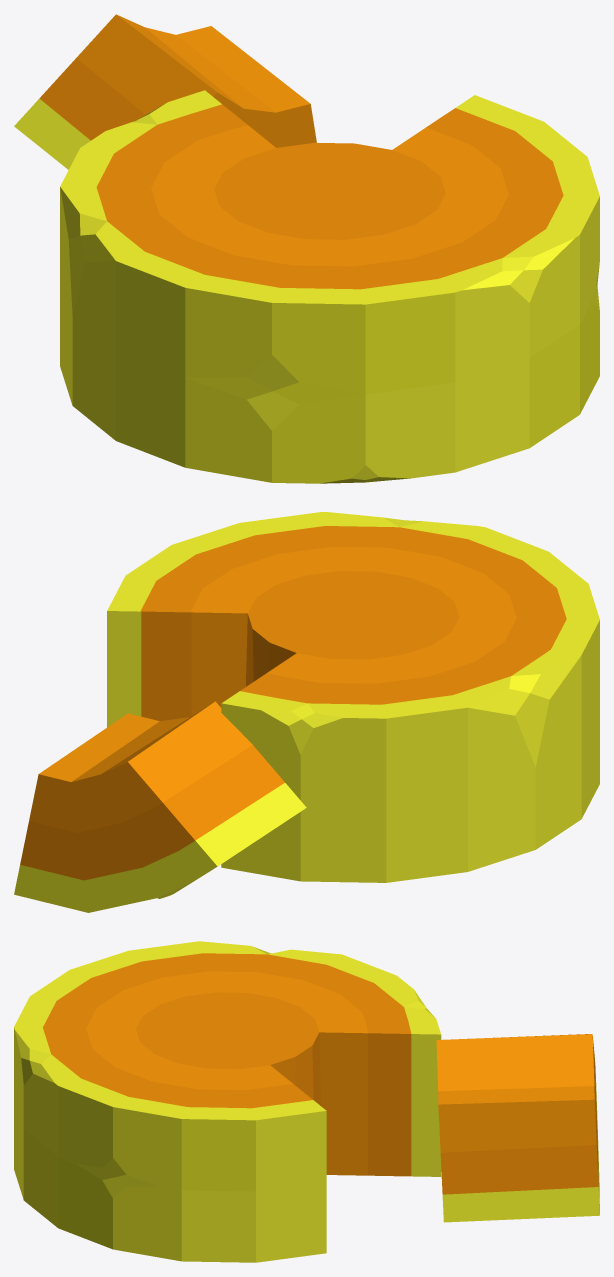
File: Tree log_17.fbx
The picture shows the model from 3 angles, top to bottom: view 1: azimuth 30°, elevation 25°; view 2: azimuth 150°, elevation 25°; view 3: azimuth 270°, elevation 25°; orthographic projection. The views are drawn at different scales.
Visible parts, largest first — view 1: Circle.338, Circle.339; view 2: Circle.338, Circle.339; view 3: Circle.338, Circle.339.
Part boxes in pixels (box(x1,y1,x2,y2)): Circle.338: box(60, 90, 599, 483); Circle.339: box(14, 14, 316, 169); Circle.338: box(107, 512, 599, 882); Circle.339: box(14, 701, 306, 912); Circle.338: box(14, 941, 441, 1262); Circle.339: box(436, 1034, 599, 1222).
Size of the model in its own units: 23.35 by 8.86 by 32.29.
